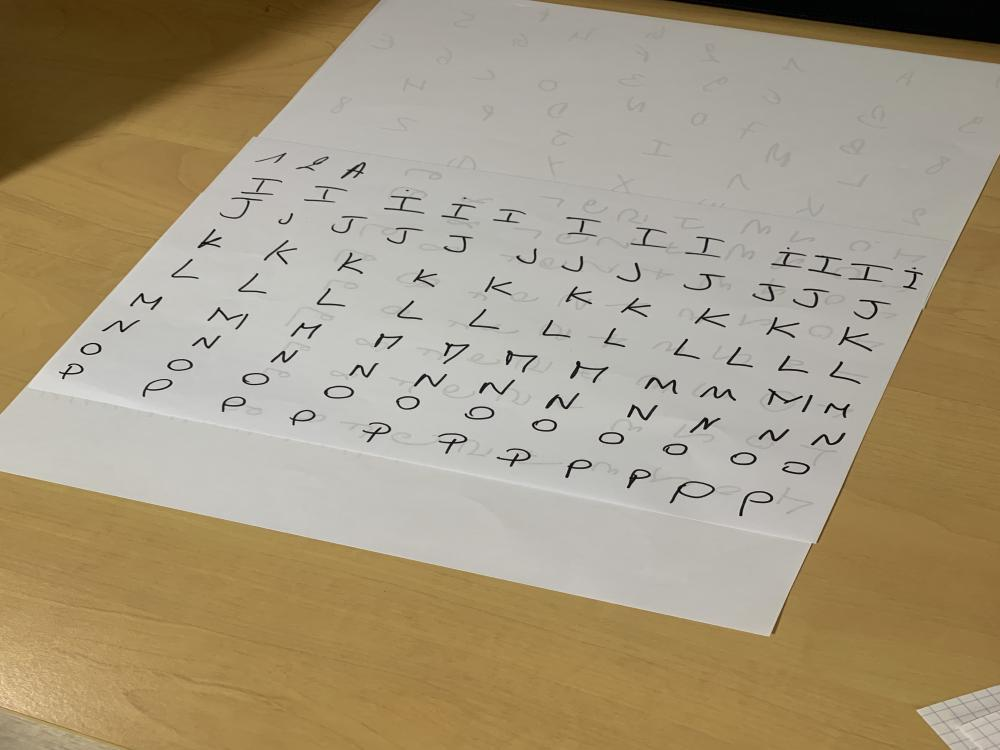0: (319, 382, 359, 402), (529, 413, 562, 436), (239, 368, 273, 390), (591, 431, 630, 448), (656, 440, 692, 458), (463, 404, 498, 422), (780, 459, 812, 478), (394, 393, 424, 413), (727, 450, 759, 468), (76, 340, 106, 358), (165, 356, 194, 374)
1: (254, 152, 287, 165)
2: (296, 155, 329, 173)
A: (342, 160, 367, 180)
I: (558, 212, 610, 240), (621, 224, 670, 252), (848, 258, 898, 284), (684, 232, 728, 260), (382, 192, 432, 216), (805, 252, 848, 278), (301, 184, 351, 205), (238, 176, 283, 199), (436, 200, 483, 222), (486, 205, 534, 226), (896, 269, 930, 292), (770, 249, 806, 270)
J: (846, 297, 900, 322), (678, 269, 726, 295), (217, 197, 264, 221), (746, 280, 791, 304), (327, 211, 368, 236), (790, 286, 836, 308), (438, 232, 478, 254), (509, 243, 544, 266), (385, 225, 422, 245), (612, 260, 644, 283), (556, 252, 588, 273), (275, 209, 297, 225)
K: (613, 292, 658, 324), (832, 322, 877, 354), (758, 313, 808, 341), (688, 303, 731, 332), (260, 236, 301, 266), (478, 272, 520, 300), (336, 248, 370, 278), (563, 282, 599, 310), (408, 264, 443, 292), (195, 226, 226, 253)
L: (825, 359, 869, 387), (463, 305, 505, 332), (166, 255, 207, 281), (233, 270, 272, 296), (771, 351, 814, 374), (310, 284, 349, 309), (722, 344, 759, 368), (671, 337, 704, 363), (600, 325, 634, 350), (538, 317, 573, 341), (392, 298, 427, 321)
M: (762, 383, 818, 416), (564, 357, 612, 384), (206, 305, 252, 332), (500, 347, 541, 376), (436, 338, 475, 366), (642, 372, 684, 396), (127, 291, 168, 314), (697, 382, 740, 403), (286, 320, 324, 340), (818, 401, 853, 422), (370, 332, 407, 351)
N: (471, 377, 523, 397), (540, 390, 587, 412), (344, 358, 390, 379), (96, 317, 145, 335), (621, 402, 665, 422), (806, 430, 853, 448), (754, 425, 796, 445), (408, 371, 454, 389), (688, 416, 729, 436), (265, 346, 304, 364), (188, 333, 227, 350)
P: (667, 477, 718, 510), (428, 430, 476, 458), (493, 442, 538, 471), (734, 489, 780, 517), (358, 420, 398, 448), (135, 376, 177, 401), (623, 466, 660, 493), (560, 457, 594, 484), (54, 358, 91, 382), (285, 408, 320, 428), (218, 393, 248, 416)
